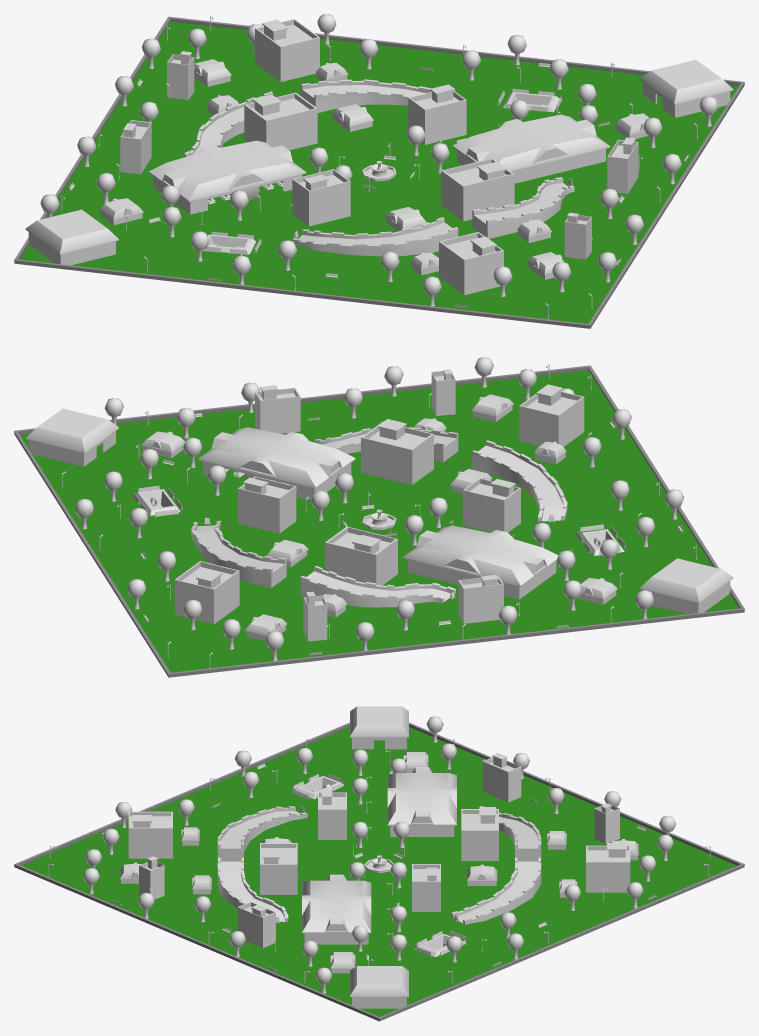
File: map.fbx
3 views of the same model, one above another, from view 1: azimuth 30°, elevation 25°; view 2: azimuth 150°, elevation 25°; view 3: azimuth 270°, elevation 25° (orthographic). The views are drawn at different scales.
Visible parts, largest first — view 1: floor, buliding (×5), wall, roof02, roof004, ascent01, buliding004, buliding001, ascent003, family home (×4), ascent004, buliding002 (+15 smaller); view 2: floor, buliding (×5), wall, roof004, roof02, buliding004, ascent02, ascent01, buliding001, ascent003, buliding002, roof01 (+14 smaller); view 3: floor, buliding (×5), wall, roof02, roof004, ascent003, buliding001, ascent01, buliding004, roof01, roof003, ascent004 (+10 smaller).
Boxes of the visible parts, x1,y1,x2,y2 form: floor: (19,21,738,323); buliding (×5): (120,51,503,295); wall: (14,16,744,328); roof02: (148,140,306,201); roof004: (452,114,610,171); ascent01: (293,217,458,256); buliding004: (441,158,514,221); buliding001: (255,19,319,81); ascent003: (300,79,431,112); family home (×4): (99,59,438,275); ascent004: (472,177,574,238); buliding002: (408,84,466,144); floor: (20,370,738,672); buliding (×5): (303,384,584,641); wall: (14,365,744,677); roof004: (198,427,355,488); roof02: (403,525,558,586); buliding004: (361,419,433,484); ascent02: (300,566,456,607); ascent01: (472,440,567,521); buliding001: (174,561,239,624); ascent003: (191,520,286,587); buliding002: (238,476,296,533); roof01: (640,558,733,603); floor: (21,727,737,1016); buliding (×5): (128,753,619,860); wall: (14,722,744,1021); roof02: (387,767,456,825); roof004: (302,874,371,933); ascent003: (451,857,541,924); buliding001: (586,843,630,892); ascent01: (217,806,307,860); buliding004: (260,843,297,894); roof01: (350,706,408,737); roof003: (350,966,408,996); ascent004: (217,857,288,921).
Size of the model in its own units: 21415 by 1362 by 21427.
